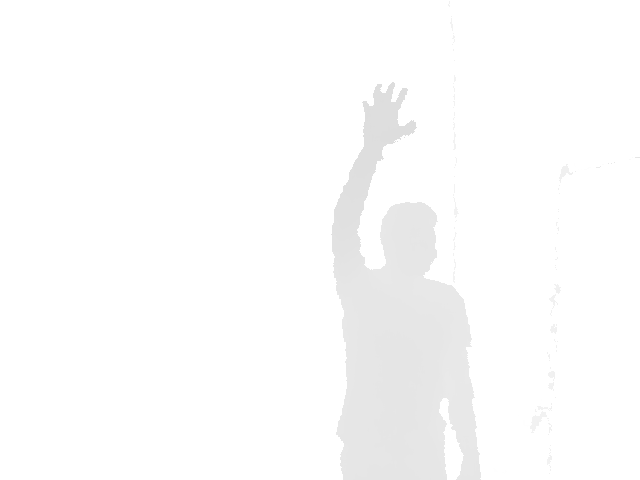hand: (361, 79, 418, 152)
head: (379, 201, 439, 278)
person: (330, 80, 484, 480)
